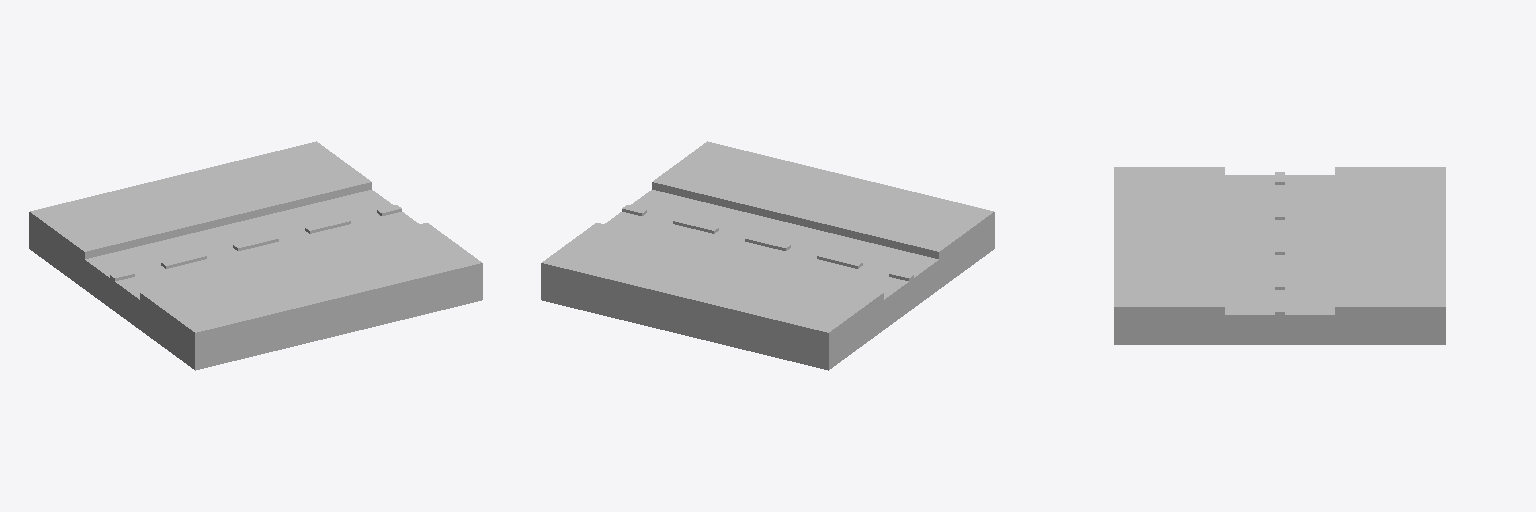
The model's file is Street_Straight.obj.
3 views of the same model, side by side, from view 1: azimuth 30°, elevation 25°; view 2: azimuth 150°, elevation 25°; view 3: azimuth 270°, elevation 25° (orthographic).
Visible parts, largest first — view 1: Street_Straight_Cube.003; view 2: Street_Straight_Cube.003; view 3: Street_Straight_Cube.003.
Part boxes in pixels (left/top/right/bottom): Street_Straight_Cube.003: left=29, top=141, right=482, bottom=370; Street_Straight_Cube.003: left=541, top=141, right=994, bottom=370; Street_Straight_Cube.003: left=1114, top=167, right=1445, bottom=344.
Bounding box in the file's own units: 2 × 0.25 × 2.